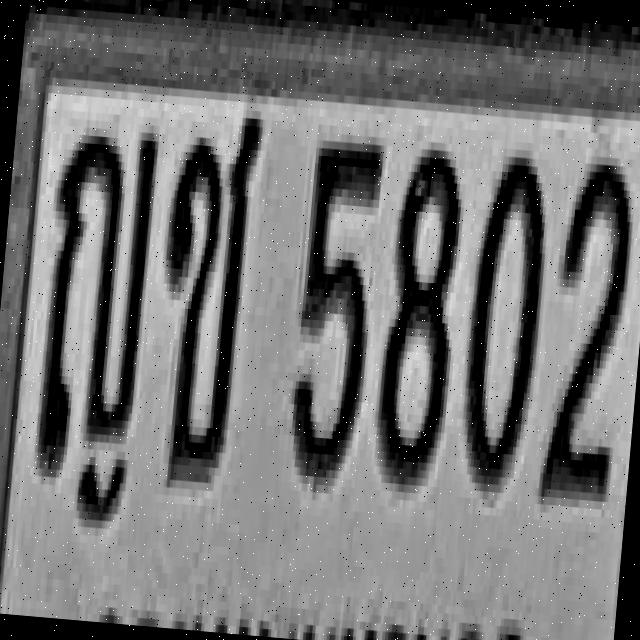0: (454, 146, 552, 494)
19ChorChang: (146, 104, 264, 484)
2: (538, 154, 638, 502)
22YorYing: (32, 118, 160, 484)
5: (284, 132, 384, 488)
8: (372, 139, 466, 487)
